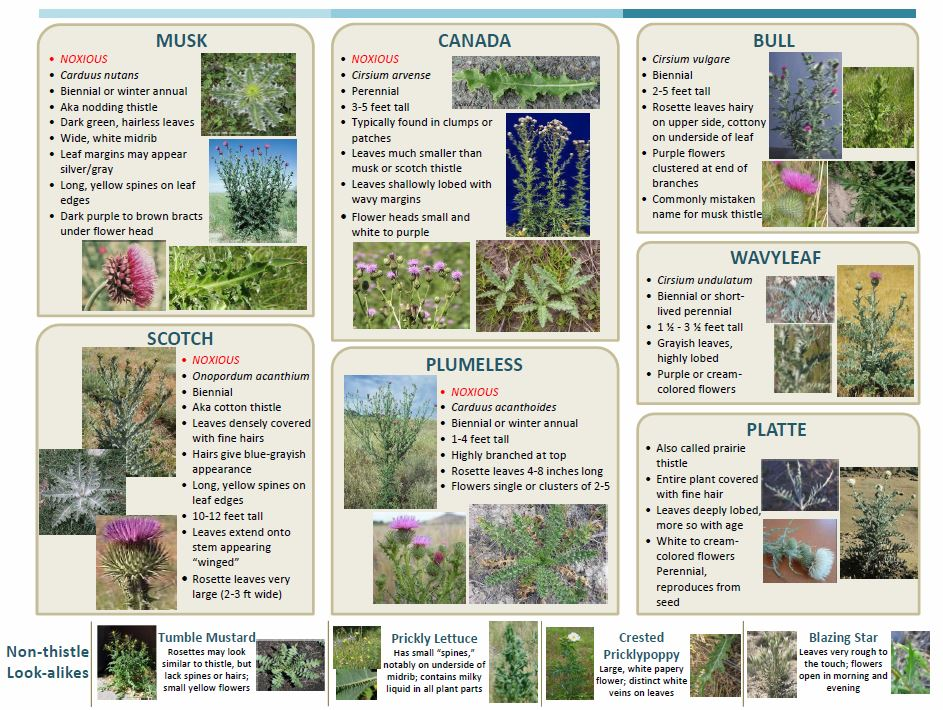thistle: (102, 519, 170, 593), (94, 254, 163, 305), (779, 169, 821, 227), (392, 516, 411, 541), (866, 273, 886, 294), (411, 536, 428, 560), (359, 263, 383, 280), (408, 259, 423, 286), (450, 270, 467, 292), (363, 305, 381, 321)
